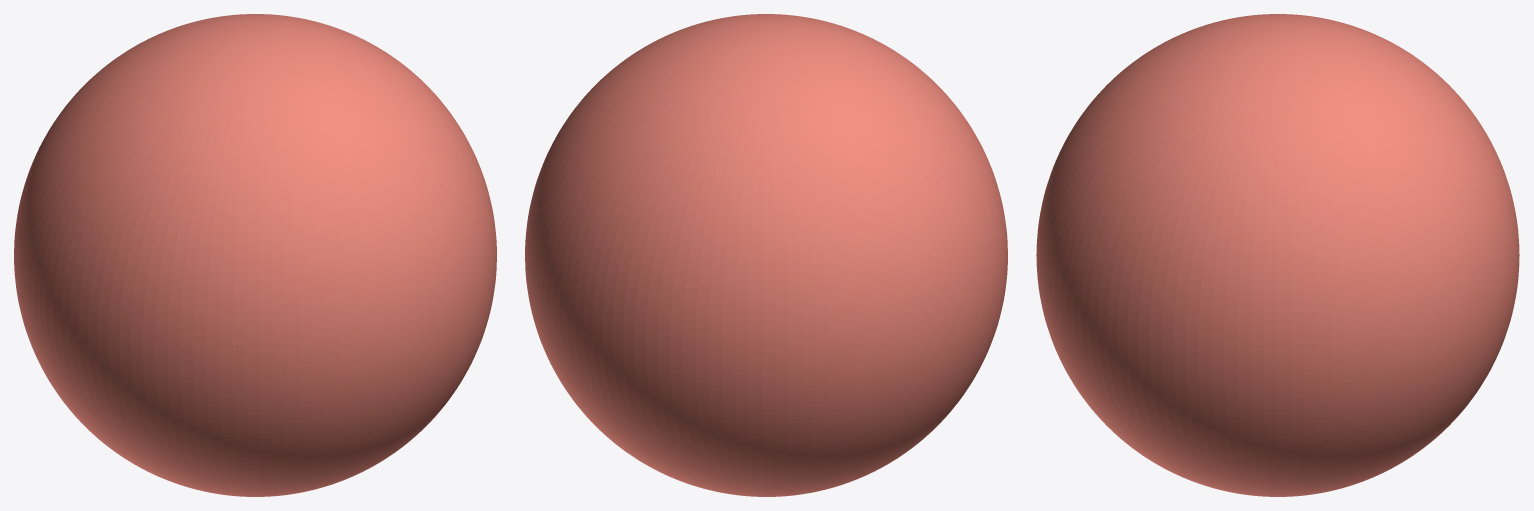
The model's file is prop_over_meshpart.glb.
3 renders of one model, left to right at view 1: azimuth 30°, elevation 25°; view 2: azimuth 150°, elevation 25°; view 3: azimuth 270°, elevation 25°, orthographic.
Visible parts, largest first — view 1: prop_over_meshpart; view 2: prop_over_meshpart; view 3: prop_over_meshpart.
Boxes of the visible parts, <box> form: prop_over_meshpart: <box>14,14,496,496</box>; prop_over_meshpart: <box>525,14,1007,496</box>; prop_over_meshpart: <box>1036,14,1519,496</box>.
Size of the model in its own units: 2 by 2 by 2.
